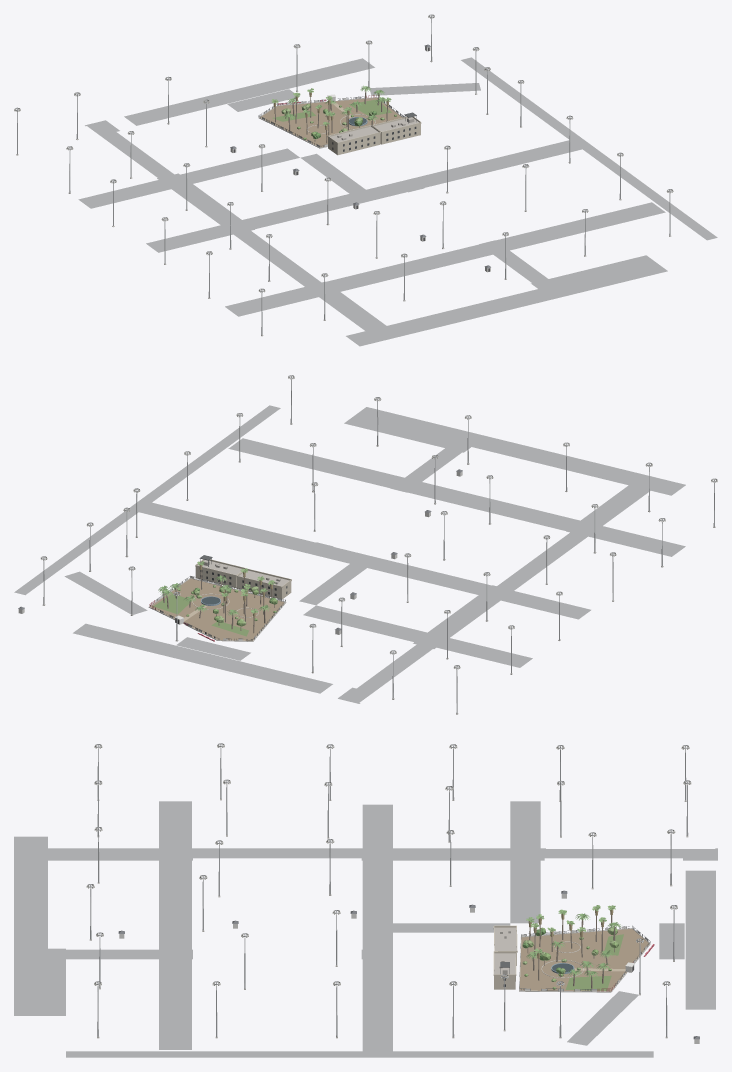
File: saqifah-westplaza.glb
3 renders of one model, top to bottom at view 1: azimuth 30°, elevation 25°; view 2: azimuth 150°, elevation 25°; view 3: azimuth 270°, elevation 25°, orthographic. The views are drawn at different scales.
Parts seen in each view (by area): view 1: WestPlazaBands, SaqifahGround, WestPlazaMasts, SaqifahOldBuilding, SaqifahPlants, WestPlazaLamps, SaqifahFence; view 2: WestPlazaBands, SaqifahGround, WestPlazaMasts, SaqifahOldBuilding, SaqifahPlants, SaqifahFence, WestPlazaLamps; view 3: WestPlazaBands, SaqifahGround, WestPlazaMasts, SaqifahPlants, SaqifahOldBuilding, SaqifahFence, WestPlazaLamps.
Part boxes in pixels (x1=…): WestPlazaBands: x1=78, y1=57, x2=717, y2=346; SaqifahGround: x1=260, y1=98, x2=402, y2=147; WestPlazaMasts: x1=14, y1=14, x2=672, y2=336; SaqifahOldBuilding: x1=327, y1=112, x2=421, y2=155; SaqifahPlants: x1=271, y1=85, x2=396, y2=143; WestPlazaLamps: x1=14, y1=15, x2=673, y2=292; SaqifahFence: x1=258, y1=95, x2=404, y2=148; WestPlazaBands: x1=14, y1=405, x2=685, y2=703; SaqifahGround: x1=150, y1=578, x2=284, y2=640; WestPlazaMasts: x1=41, y1=375, x2=717, y2=714; SaqifahOldBuilding: x1=195, y1=555, x2=291, y2=599; SaqifahPlants: x1=158, y1=561, x2=277, y2=633; SaqifahFence: x1=148, y1=576, x2=286, y2=641; WestPlazaLamps: x1=40, y1=376, x2=717, y2=669; WestPlazaBands: x1=14, y1=801, x2=717, y2=1057; SaqifahGround: x1=519, y1=929, x2=648, y2=991; WestPlazaMasts: x1=87, y1=743, x2=690, y2=1038; SaqifahPlants: x1=522, y1=905, x2=620, y2=989; SaqifahOldBuilding: x1=493, y1=925, x2=517, y2=989; SaqifahFence: x1=519, y1=925, x2=650, y2=992; WestPlazaLamps: x1=86, y1=744, x2=691, y2=986.
Bounding box in the file's own units: 264 × 26.81 × 303.
